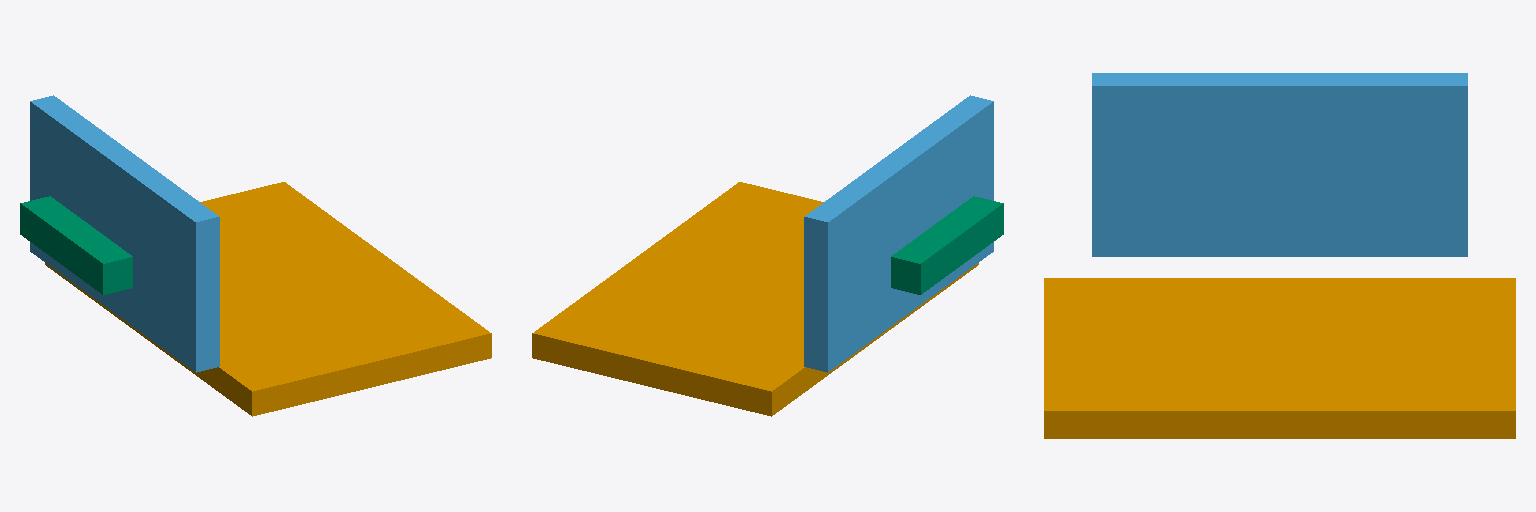
URDF robot description (drawer_ur5_inspire):
<?xml version="1.0" ?>
<robot name="drawer_ur5_inspire">
  <link name="cabinet">
    <inertial>
      <origin xyz="0.12 0 -0.08"/>
      <mass value="2"/>
      <inertia ixx="0.015066666666666666" iyy="0.006733333333333334" izz="0.021666666666666667" ixy="0" ixz="0" iyz="0"/>
    </inertial>
    <visual>
      <origin xyz="0.12 0 -0.08"/>
      <geometry>
        <box size="0.20 0.30 0.02"/>
      </geometry>
    </visual>
    <collision>
      <origin xyz="0.12 0 -0.08"/>
      <geometry>
        <box size="0.20 0.30 0.02"/>
      </geometry>
    </collision>
  </link>
  <link name="drawer">
    <inertial>
      <origin xyz="0 0 0"/>
      <mass value="0.4"/>
      <inertia ixx="0.0024" iyy="0.0004933333333333334" izz="0.0019333333333333331" ixy="0" ixz="0" iyz="0"/>
    </inertial>
    <visual>
      <origin xyz="0 0 0"/>
      <geometry>
        <box size="0.02 0.24 0.12"/>
      </geometry>
    </visual>
    <collision>
      <origin xyz="0 0 0"/>
      <geometry>
        <box size="0.02 0.24 0.12"/>
      </geometry>
    </collision>
  </link>
  <joint name="slide" type="prismatic">
    <parent link="cabinet"/>
    <child link="drawer"/>
    <axis xyz="-1 0 0"/>
    <limit lower="0" upper="0.16" effort="30" velocity="0.5"/>
  </joint>
  <link name="handle">
    <inertial>
      <origin xyz="0 0 0"/>
      <mass value="0.03"/>
      <inertia ixx="3.75625e-05" iyy="3.125e-06" izz="3.75625e-05" ixy="0" ixz="0" iyz="0"/>
    </inertial>
    <visual>
      <origin xyz="0 0 0"/>
      <geometry>
        <box size="0.025 0.12 0.025"/>
      </geometry>
    </visual>
    <collision>
      <origin xyz="0 0 0"/>
      <geometry>
        <box size="0.025 0.12 0.025"/>
      </geometry>
    </collision>
  </link>
  <joint name="handle_fixed" type="fixed">
    <parent link="drawer"/>
    <child link="handle"/>
    <origin xyz="-0.04 0 0"/>
  </joint>
</robot>

--- What the picture shows (computed from the rendered views, not written in the file) ---
Views: 3 orthographic renders of the robot side by side, from view 1: azimuth 30°, elevation 25°; view 2: azimuth 150°, elevation 25°; view 3: azimuth 270°, elevation 25°.
Robot: drawer_ur5_inspire — 3 links, 2 joints (1 prismatic, 1 fixed); root link cabinet; default pose: every joint at zero.
Visible links, largest first — view 1: cabinet, drawer, handle; view 2: cabinet, drawer, handle; view 3: cabinet, drawer.
Link boxes in pixels (bbox=[...]): cabinet: bbox=[45, 182, 491, 416]; drawer: bbox=[30, 95, 219, 372]; handle: bbox=[20, 196, 132, 294]; cabinet: bbox=[532, 182, 978, 416]; drawer: bbox=[804, 95, 993, 372]; handle: bbox=[891, 196, 1003, 294]; cabinet: bbox=[1044, 278, 1515, 438]; drawer: bbox=[1092, 73, 1467, 256].
Size in the robot's own frame: 0.2725 by 0.3 by 0.15 metres.
Geometry: primitives only (box / cylinder / sphere), no mesh files.
